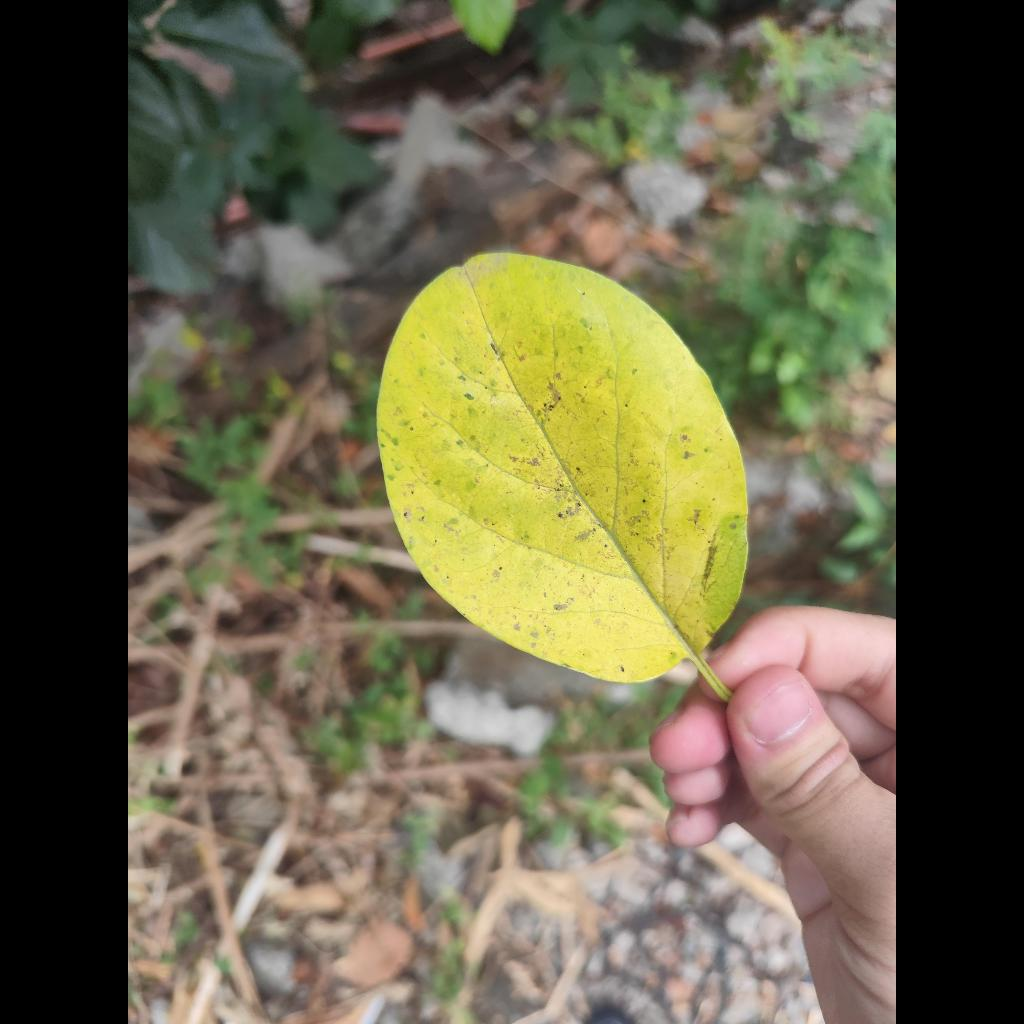nutrient_deficiency: (377, 254, 747, 683)
